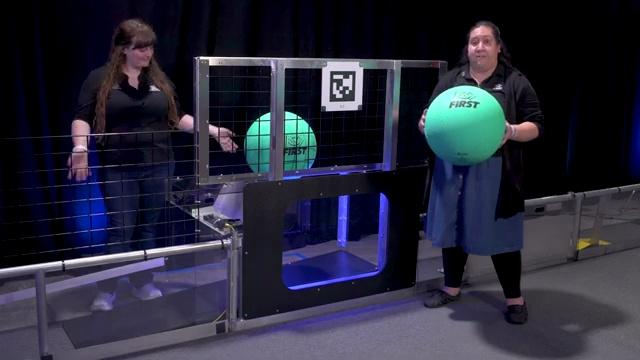ALGAE: (423, 84, 506, 166), (242, 108, 317, 177)
